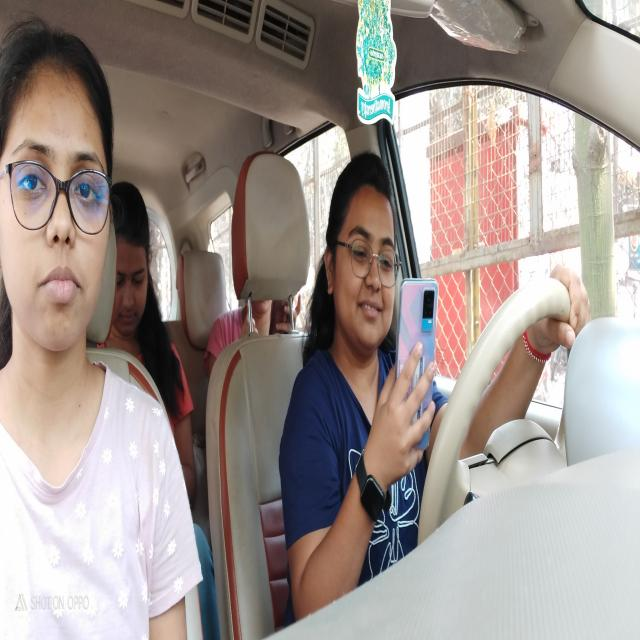mobile: (395, 268, 437, 454)
person: (0, 17, 118, 360), (326, 150, 399, 342), (110, 180, 155, 337)
